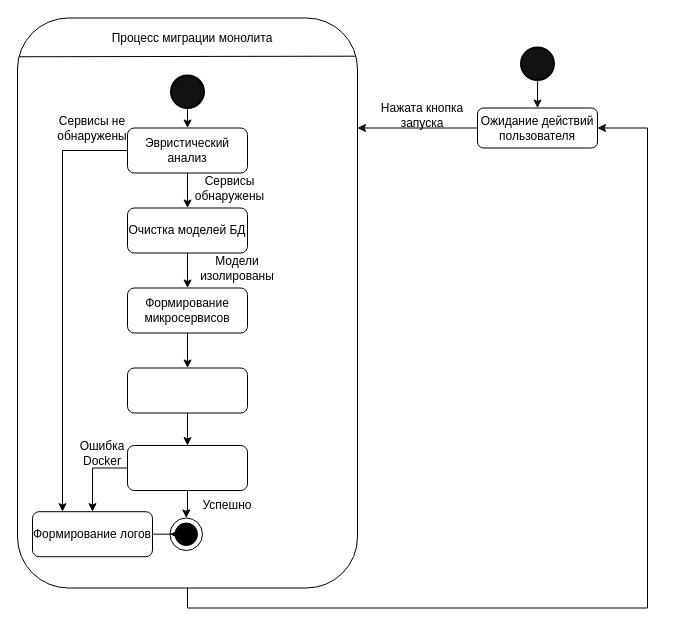
Image size: 673x633. Some labels were removed from this diagram. Here are the shapes that lost their labels. From the top down, the box of each, then its label:
(126, 367, 248, 413): Генерация инфраструктуры
(126, 444, 248, 490): Запуск контейнеров
